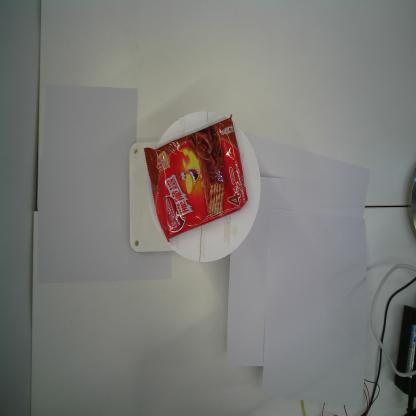Dessert: (144, 113, 248, 243)
